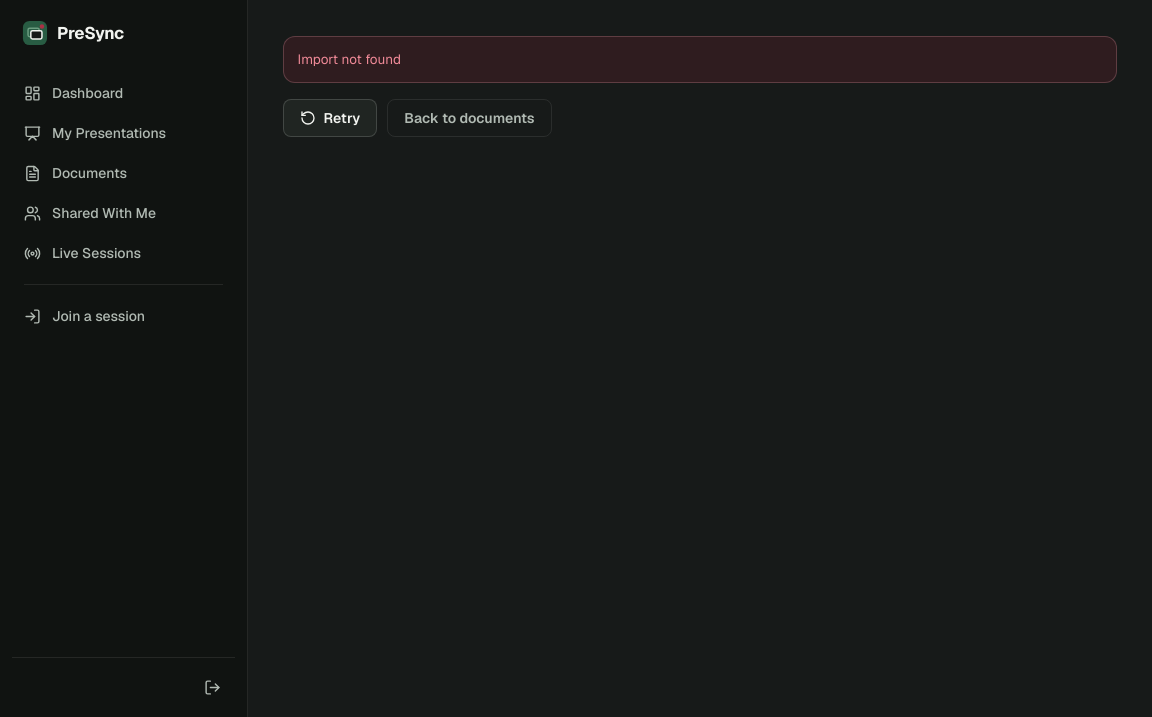
Test case: ImportReviewPage › offers a retry when the import cannot be loaded
Expected: the text "Import not found" is shown, [282,36,1117,83]
Click the button "Retry". click: click(330, 118)
box: [282,99,377,137]
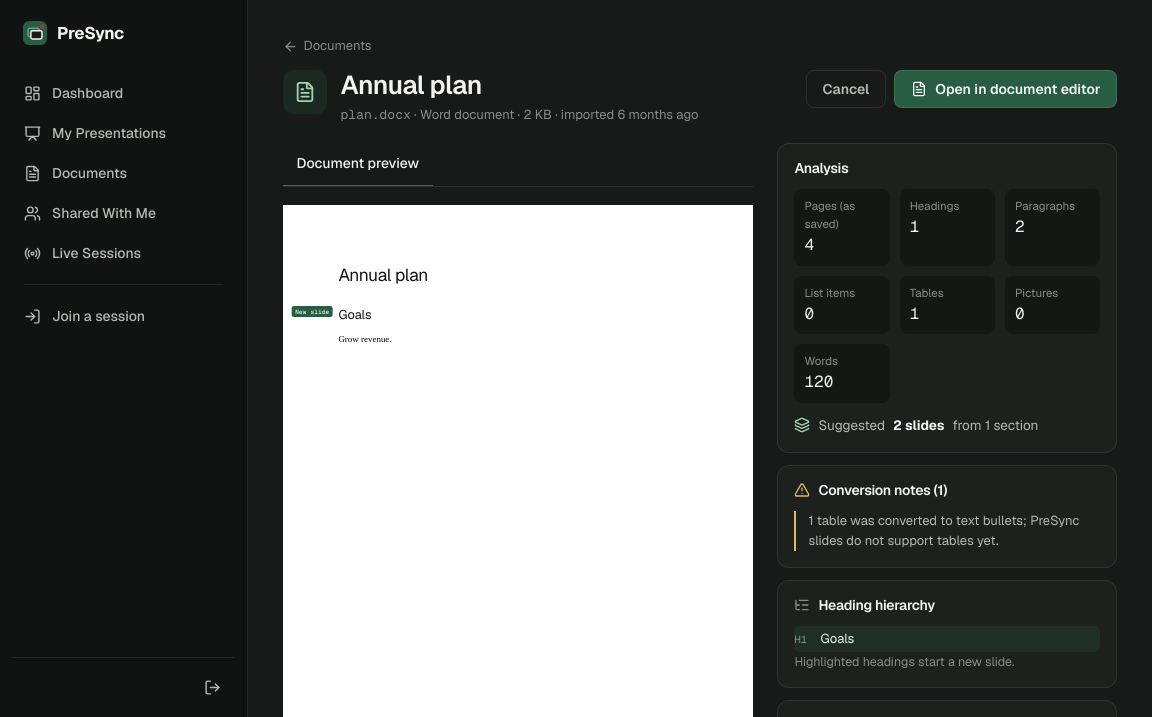
Expected: the heading "Annual plan" is shown, [340,68,482,102]
